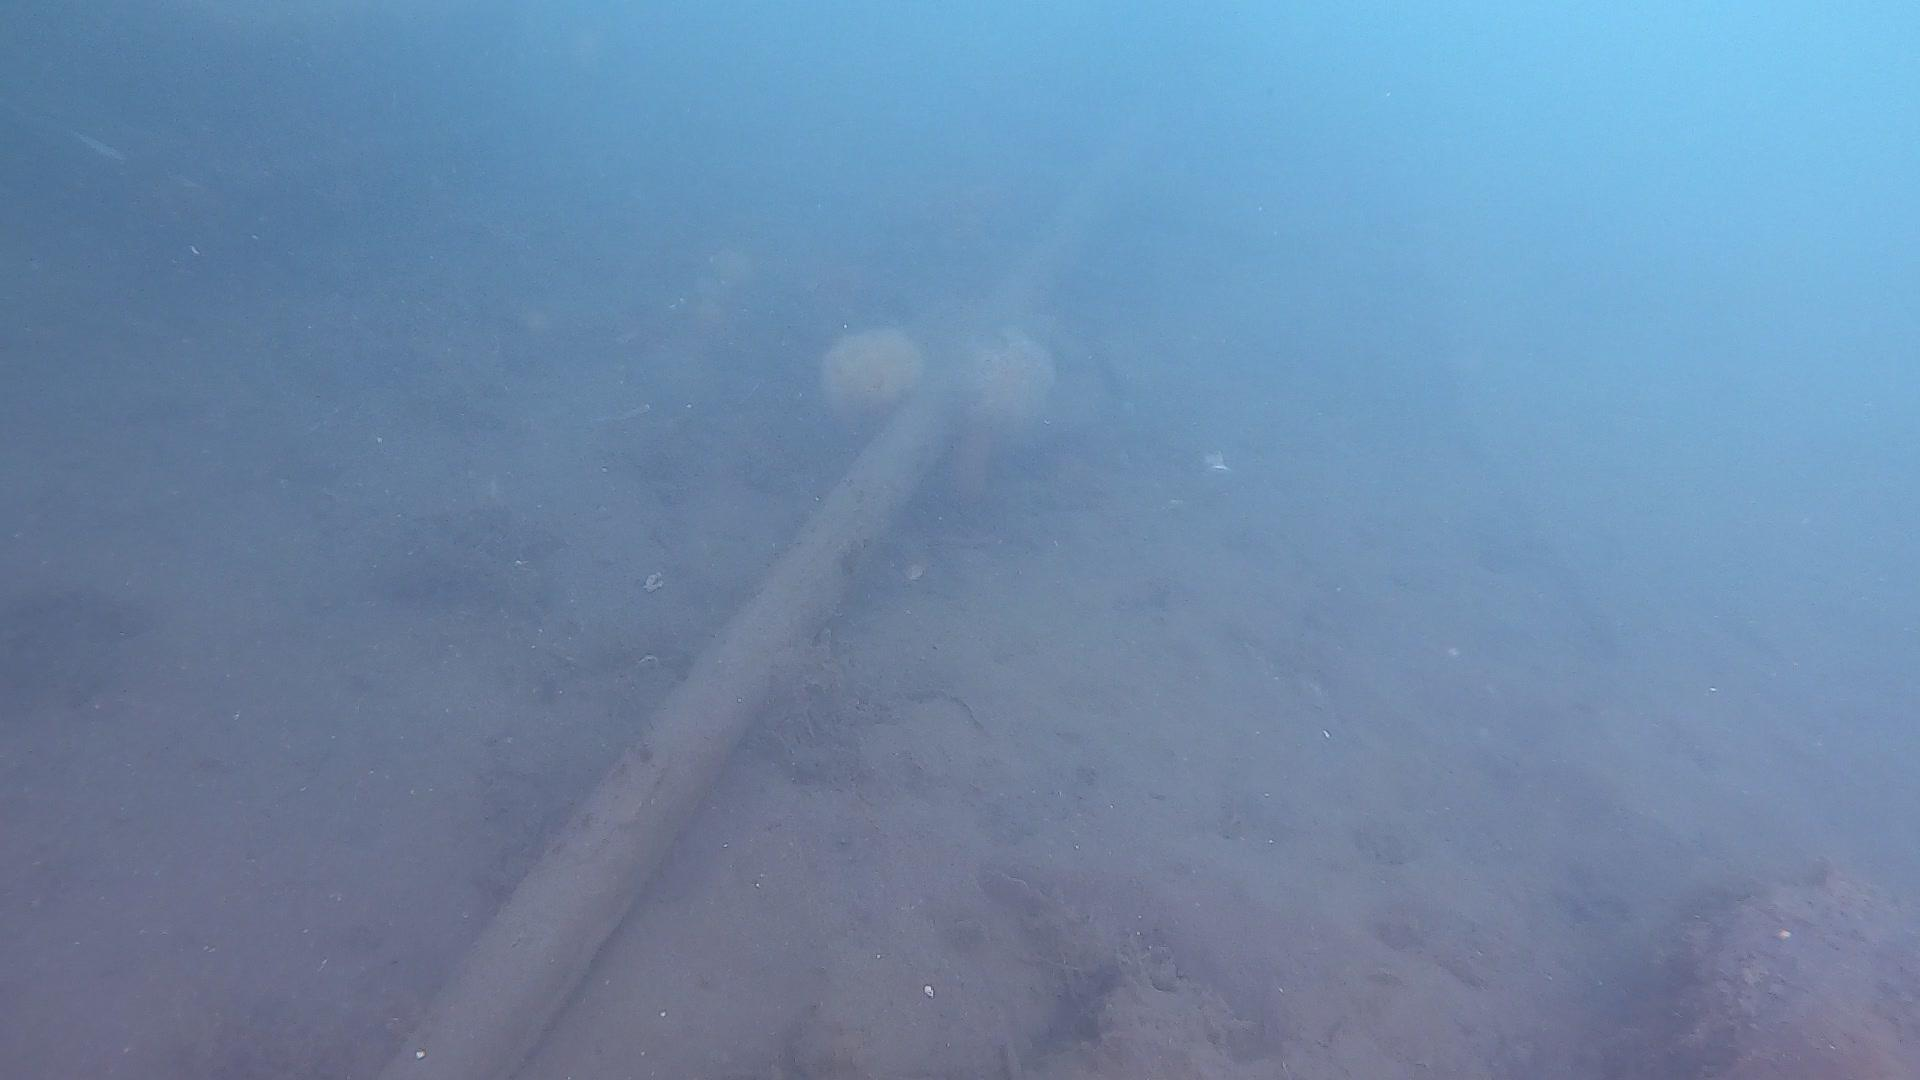rope: (372, 166, 1108, 1069)
